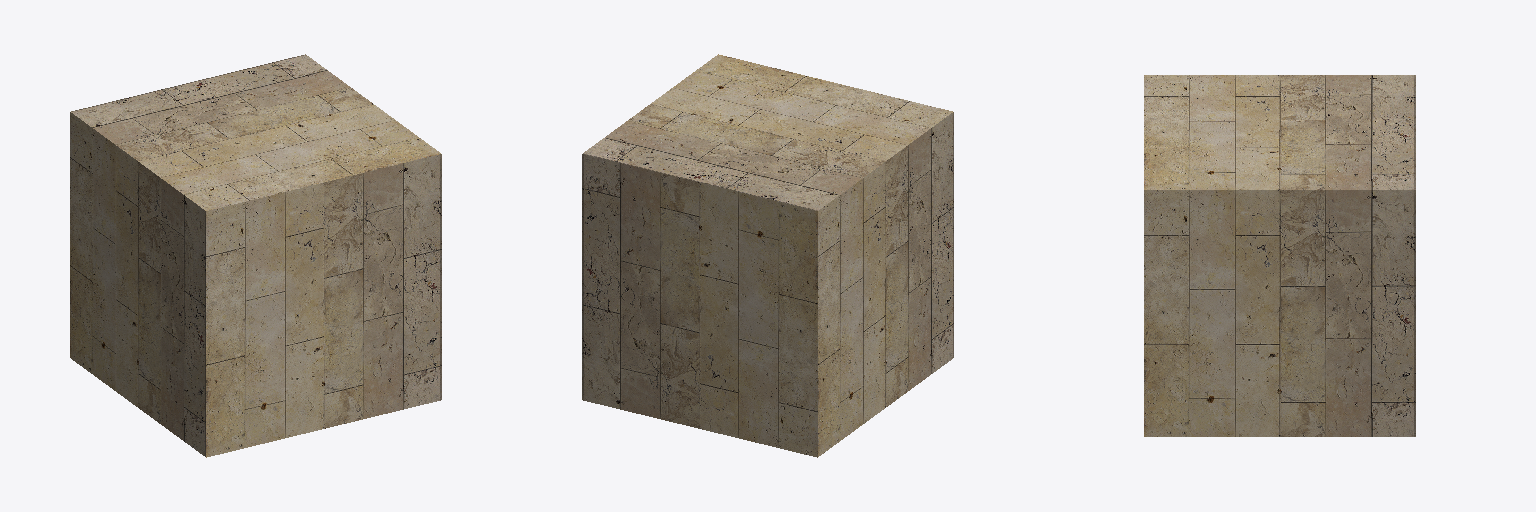
3 views of the same model, side by side, from view 1: azimuth 30°, elevation 25°; view 2: azimuth 150°, elevation 25°; view 3: azimuth 270°, elevation 25° (orthographic).
Visible parts, largest first — view 1: Cube; view 2: Cube; view 3: Cube.
Part boxes in pixels (bbox=[...]): Cube: bbox=[70, 54, 441, 457]; Cube: bbox=[582, 54, 953, 457]; Cube: bbox=[1144, 75, 1415, 436].
Size of the model in its own units: 2 by 2 by 2.
Materials: 1 (1 with a texture image).